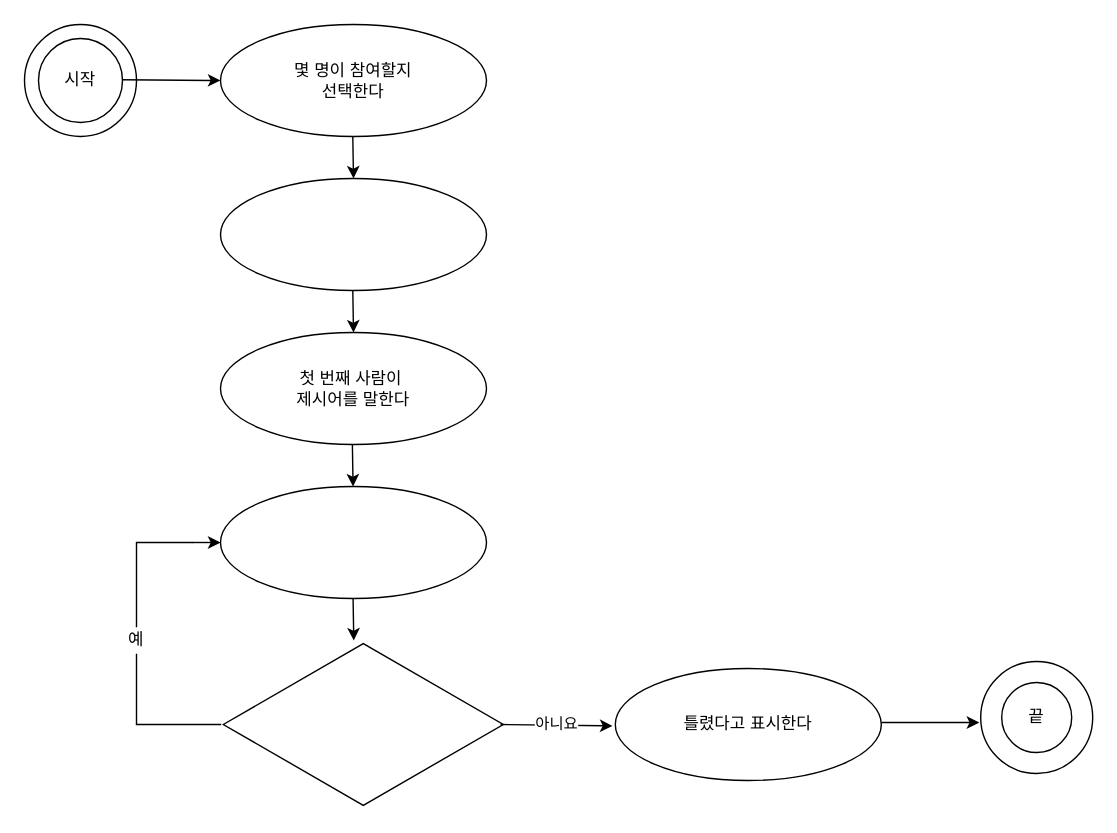
The diagram is 1117 pixels wide and 833 high, and some of its shapes have lost their labels. The centre of each missing label's shape, as x and y in pixels:
"다음 사람이 단어를 말한다" goes at point 352,541.
"단어가 올바른가?" goes at point 362,723.
"참가자 순서를 정한다" goes at point 352,233.
